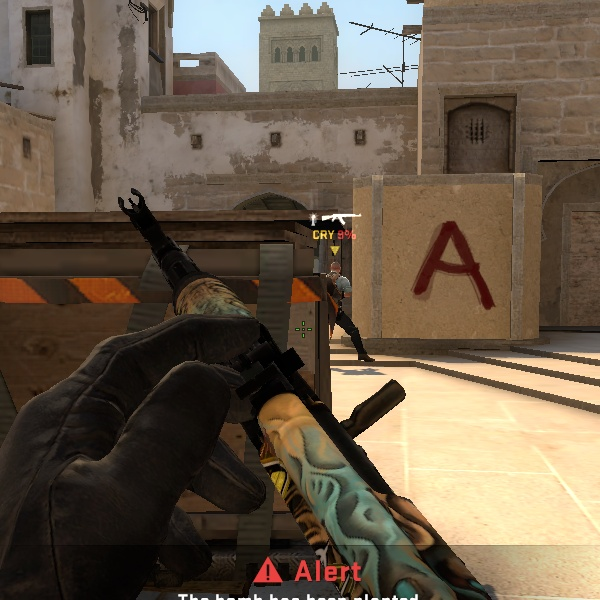t_body: (310, 256, 372, 366)
t_head: (322, 258, 349, 288)
